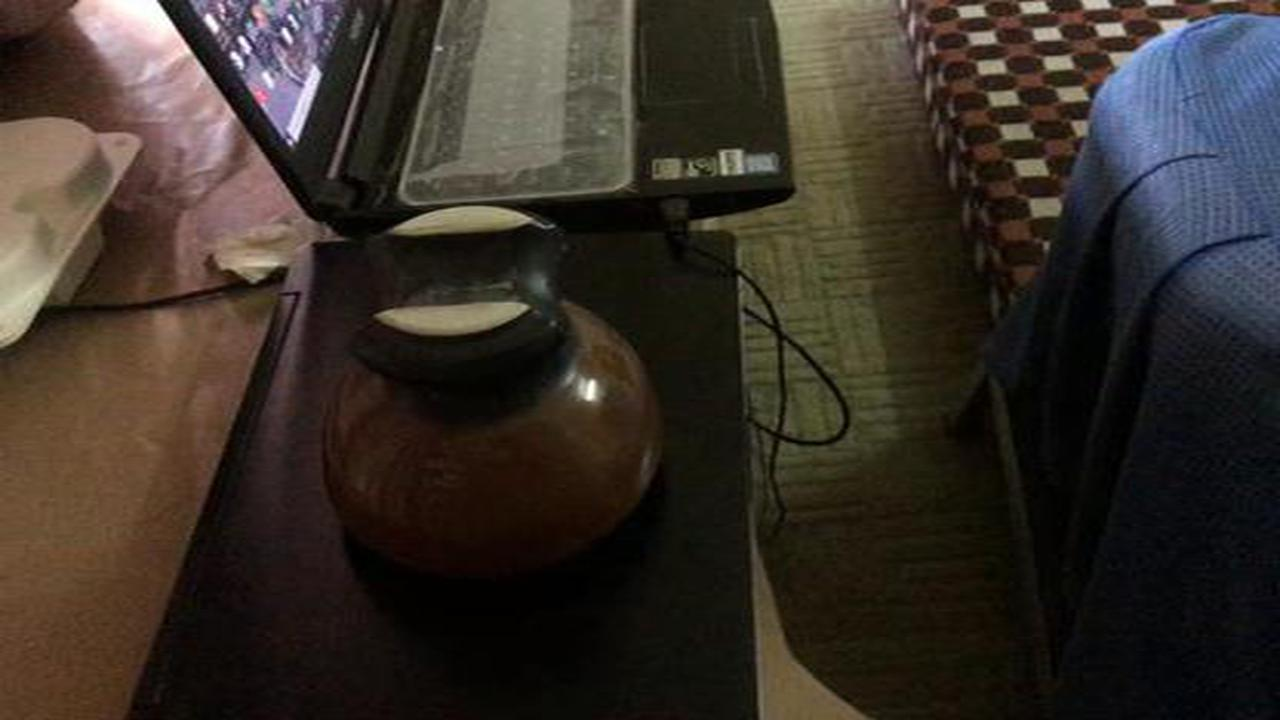insulator_pin: (305, 194, 687, 603)
